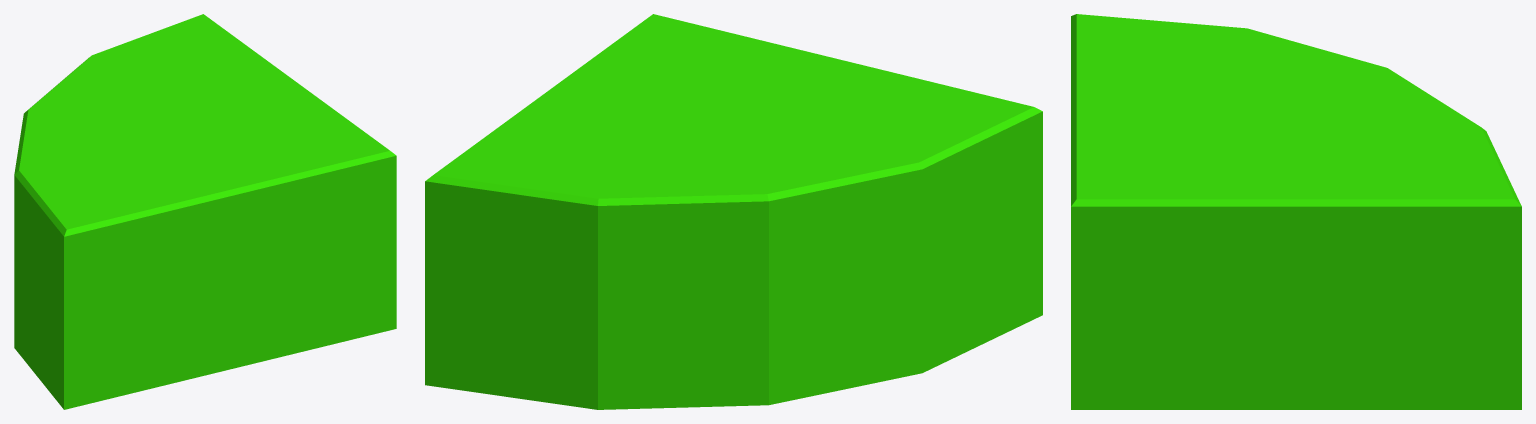
The model's file is round_4x2_02.fbx.
3 views of the same model, side by side, from view 1: azimuth 30°, elevation 25°; view 2: azimuth 150°, elevation 25°; view 3: azimuth 270°, elevation 25° (orthographic). The views are drawn at different scales.
Parts seen in each view (by area): view 1: round_4x2_02; view 2: round_4x2_02; view 3: round_4x2_02.
Part boxes in pixels (x1,y1,x2,y2): round_4x2_02: (14,14,396,409); round_4x2_02: (425,14,1042,409); round_4x2_02: (1071,14,1521,409).
Size of the model in its own units: 412 by 210 by 412.
